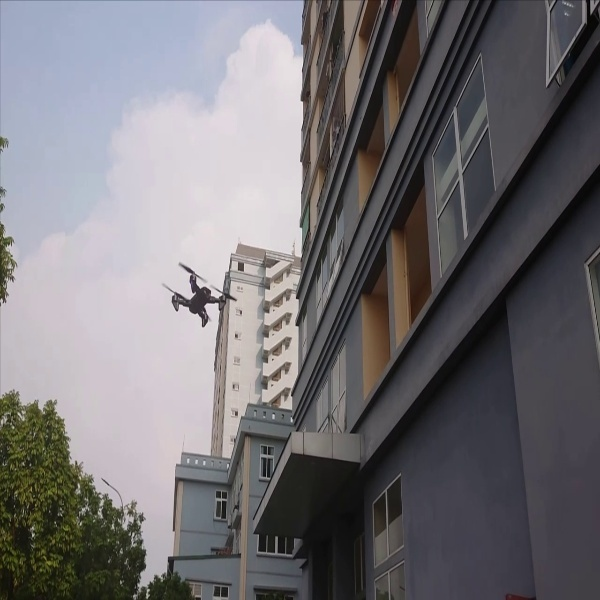drone: (153, 254, 243, 334)
